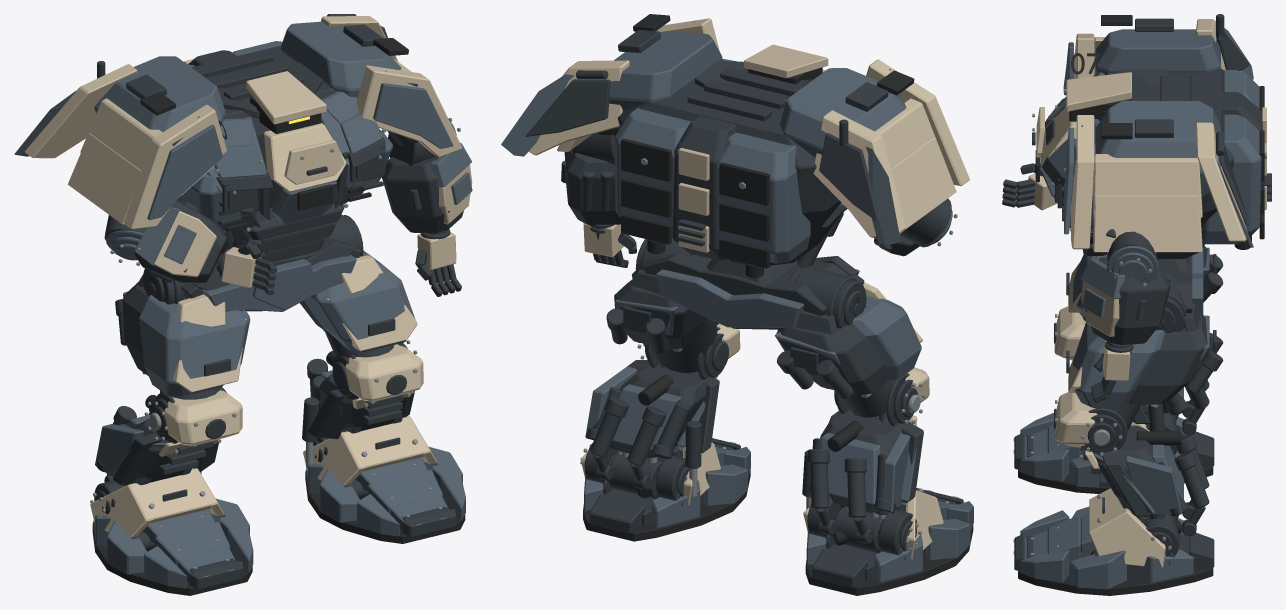
File: warden-painted.glb
3 views of the same model, side by side, from view 1: azimuth 30°, elevation 25°; view 2: azimuth 150°, elevation 25°; view 3: azimuth 270°, elevation 25° (orthographic). The views are drawn at different scales.
Visible parts, largest first — view 1: Bench_Torso_armor, Bench_Pauldron_R_armor, Bench_Foot_R_armor, Bench_Foot_L_armor, Bench_Pauldron_L_armor, Bench_Hip_R_armor, Bench_Hip_L_armor, Bench_Knee_R_armor, Bench_Elbow_L_armor, Bench_Elbow_R_armor, Bench_Pelvis_armor, Bench_Knee_L_armor (+5 smaller); view 2: Bench_Torso_armor, Bench_Pauldron_R_armor, Bench_Pauldron_L_armor, Bench_Hip_R_armor, Bench_Knee_L_armor, Bench_Knee_R_armor, Bench_Foot_R_armor, Bench_Foot_L_armor, Bench_Pelvis_armor, Bench_Hip_L_armor, Bench_Elbow_L_armor, Bench_Optics_armor (+2 smaller); view 3: Bench_Pauldron_L_armor, Bench_Foot_L_armor, Bench_Torso_armor, Bench_Hip_L_armor, Bench_Knee_L_armor, Bench_Pauldron_R_armor, Bench_Elbow_L_armor, Bench_Foot_R_armor, Bench_Optics_armor, Bench_Knee_R_armor, Bench_KneeGuard_L_armor, Bench_Pelvis_armor (+4 smaller).
Boxes of the visible parts, left/top/right/bottom form: Bench_Torso_armor: left=178, top=41, right=392, bottom=262; Bench_Pauldron_R_armor: left=14, top=56, right=226, bottom=229; Bench_Foot_R_armor: left=90, top=468, right=253, bottom=595; Bench_Foot_L_armor: left=303, top=416, right=465, bottom=543; Bench_Pauldron_L_armor: left=281, top=14, right=462, bottom=157; Bench_Hip_R_armor: left=115, top=261, right=250, bottom=399; Bench_Hip_L_armor: left=300, top=214, right=417, bottom=358; Bench_Knee_R_armor: left=95, top=387, right=226, bottom=485; Bench_Elbow_L_armor: left=381, top=118, right=472, bottom=233; Bench_Elbow_R_armor: left=104, top=199, right=227, bottom=282; Bench_Pelvis_armor: left=181, top=236, right=361, bottom=311; Bench_Knee_L_armor: left=302, top=340, right=417, bottom=468; Bench_Torso_armor: left=614, top=58, right=847, bottom=278; Bench_Pauldron_R_armor: left=780, top=59, right=969, bottom=245; Bench_Pauldron_L_armor: left=501, top=14, right=722, bottom=156; Bench_Hip_R_armor: left=775, top=267, right=922, bottom=417; Bench_Knee_L_armor: left=585, top=327, right=728, bottom=498; Bench_Knee_R_armor: left=802, top=373, right=925, bottom=545; Bench_Foot_R_armor: left=803, top=488, right=973, bottom=595; Bench_Foot_L_armor: left=580, top=438, right=750, bottom=541; Bench_Pelvis_armor: left=643, top=253, right=864, bottom=329; Bench_Hip_L_armor: left=606, top=238, right=718, bottom=372; Bench_Elbow_L_armor: left=561, top=133, right=620, bottom=224; Bench_Optics_armor: left=744, top=44, right=828, bottom=84; Bench_Pauldron_L_armor: left=1063, top=101, right=1253, bottom=252; Bench_Foot_L_armor: left=1013, top=488, right=1214, bottom=595; Bench_Torso_armor: left=1032, top=68, right=1271, bottom=258; Bench_Hip_L_armor: left=1066, top=273, right=1223, bottom=430; Bench_Knee_L_armor: left=1080, top=408, right=1209, bottom=536; Bench_Pauldron_R_armor: left=1063, top=14, right=1253, bottom=95; Bench_Elbow_L_armor: left=1080, top=231, right=1170, bottom=345; Bench_Foot_R_armor: left=1013, top=413, right=1214, bottom=493; Bench_Optics_armor: left=1066, top=72, right=1131, bottom=121; Bench_Knee_R_armor: left=1133, top=380, right=1209, bottom=437; Bench_KneeGuard_L_armor: left=1054, top=392, right=1097, bottom=447; Bench_Pelvis_armor: left=1095, top=247, right=1203, bottom=315.
Size of the model in its own units: 4.37 by 4.91 by 2.71.
